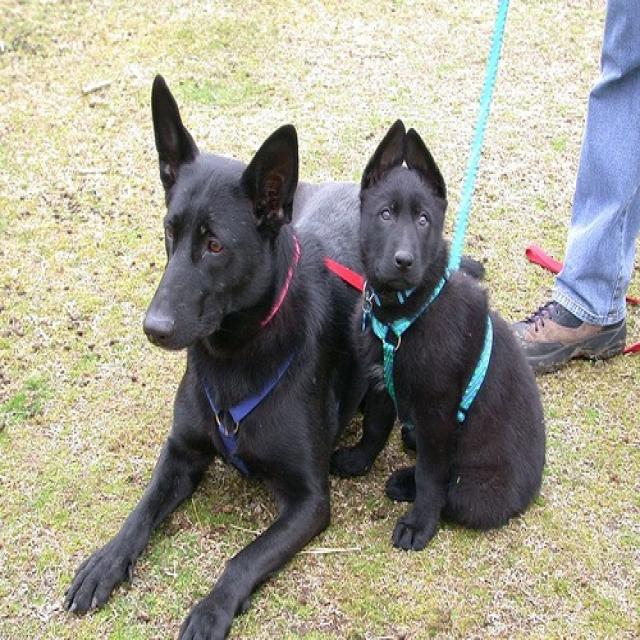dog: (54, 75, 417, 633), (353, 119, 553, 548)
